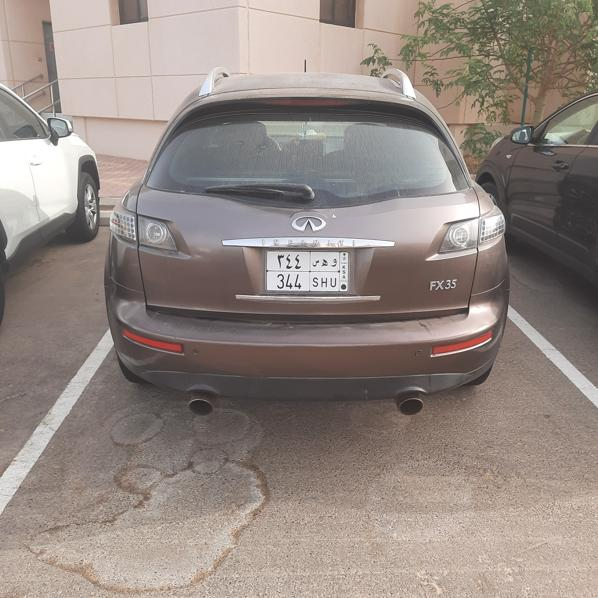numberplate: (267, 251, 350, 292)
